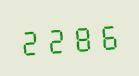eight: (68, 20, 92, 54)
six: (93, 18, 117, 52)
two: (43, 21, 67, 56), (18, 23, 42, 57)
